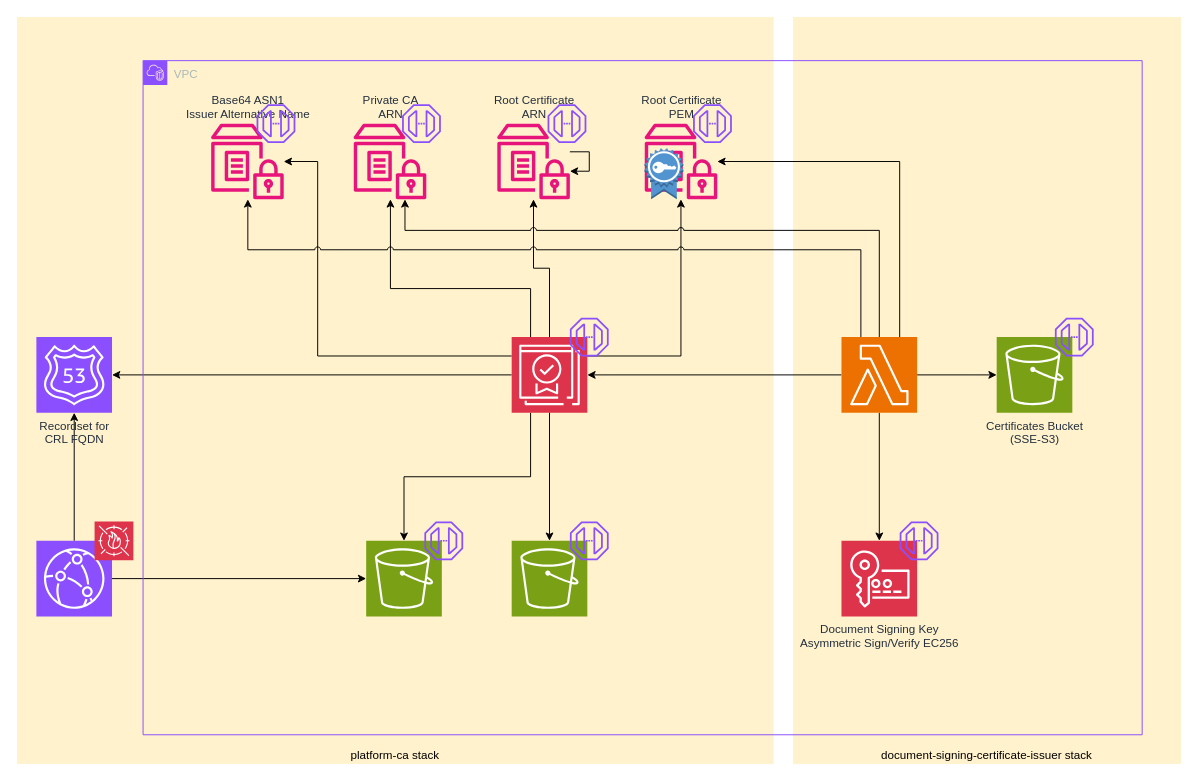
Some shapes in this 1197 by 780 pixel diagram are drawn without their labels. The shapes that lost their labels are listed below. From the top down, each one's centre as x and y in pixels, then its label:
the point at 549,374: Private CA
the point at 879,374: Issue Certificate
the point at 73,578: CloudFront Distribution for CRL
the point at 403,578: CRL Bucket (SSE-S3) expiry policy linked to cert expiry
the point at 549,578: Audit Report Bucket (SSE-S3) 7 day expiry policy
